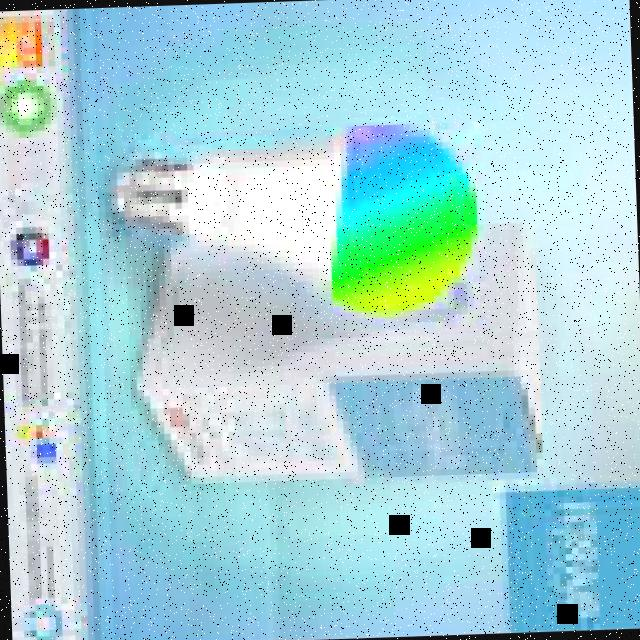light_bulb: (88, 96, 501, 344)
